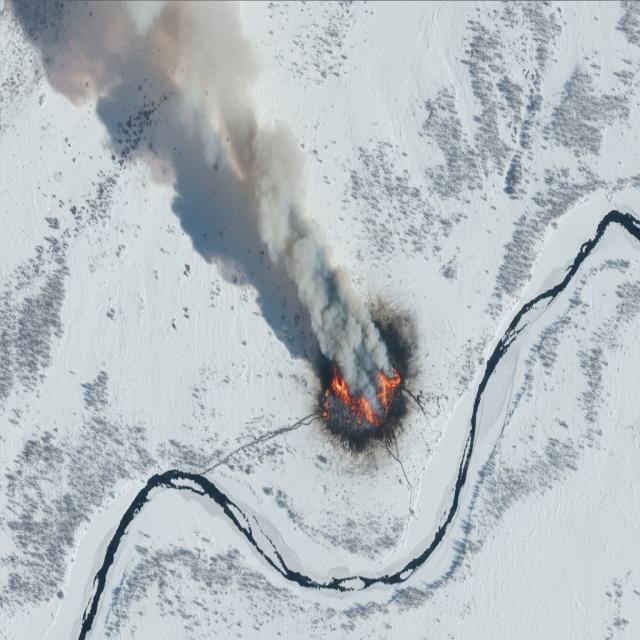wildfire: (286, 218, 414, 459)
